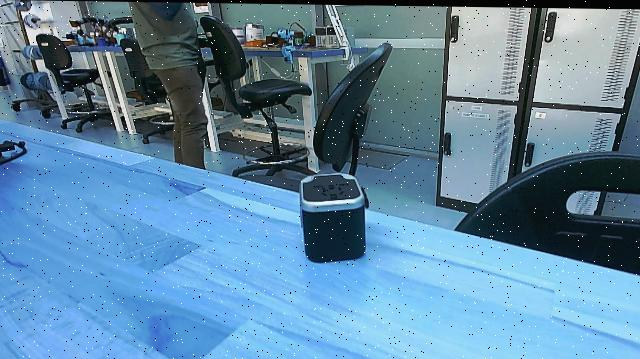adapter: (294, 168, 372, 265)
